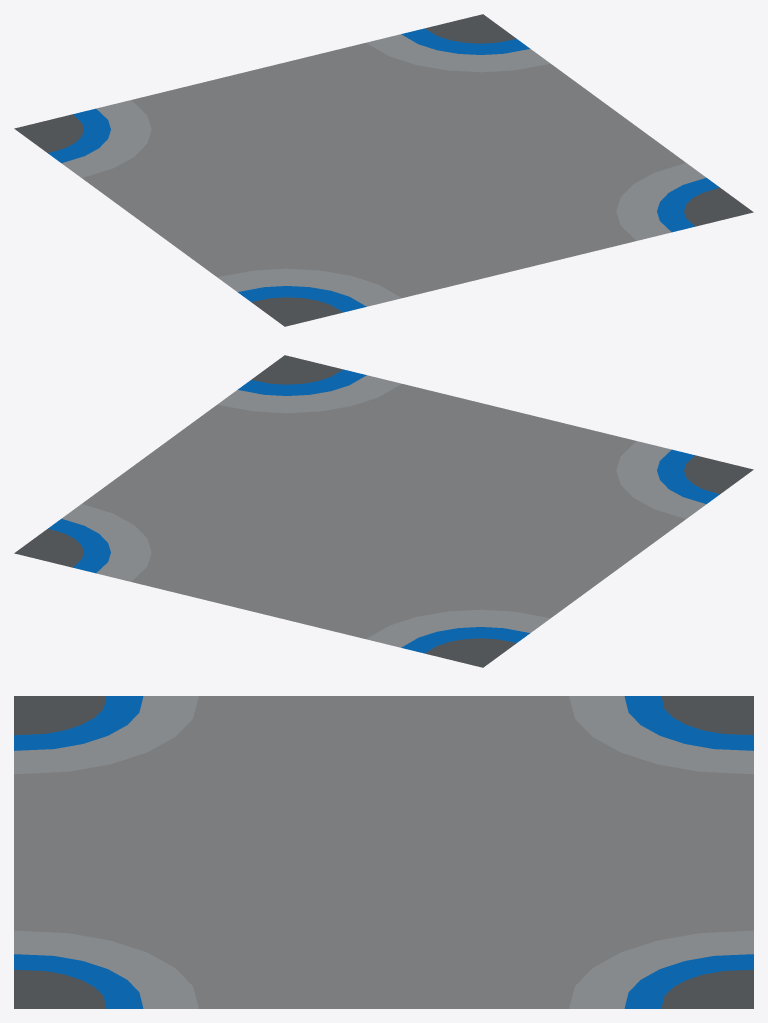
Rendered from Ceiling_type_B_044.fbx.
3 views of the same model, one above another, from view 1: azimuth 30°, elevation 25°; view 2: azimuth 150°, elevation 25°; view 3: azimuth 270°, elevation 25° (orthographic). The views are drawn at different scales.
Parts seen in each view (by area): view 1: Ceiling_type_B_044; view 2: Ceiling_type_B_044; view 3: Ceiling_type_B_044.
Part boxes in pixels (x1=…): Ceiling_type_B_044: x1=14, y1=14, x2=753, y2=326; Ceiling_type_B_044: x1=14, y1=355, x2=753, y2=667; Ceiling_type_B_044: x1=14, y1=696, x2=753, y2=1008.
Bounding box in the file's own units: 400 × 400 × 1.2.
